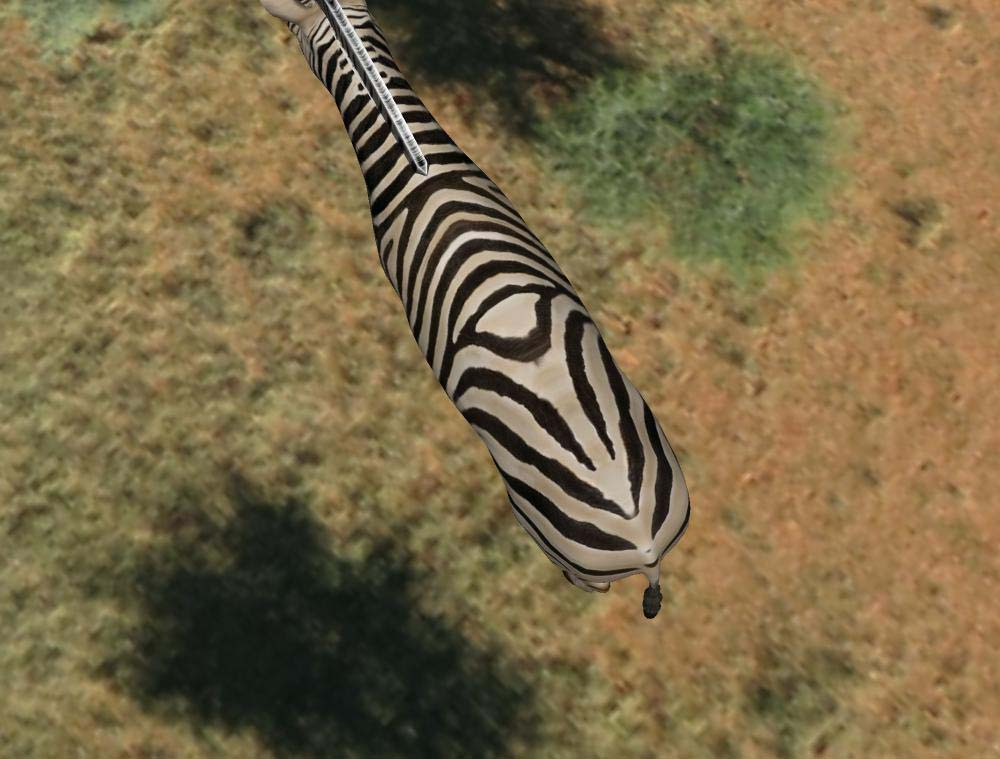zebra: (258, 1, 694, 627)
